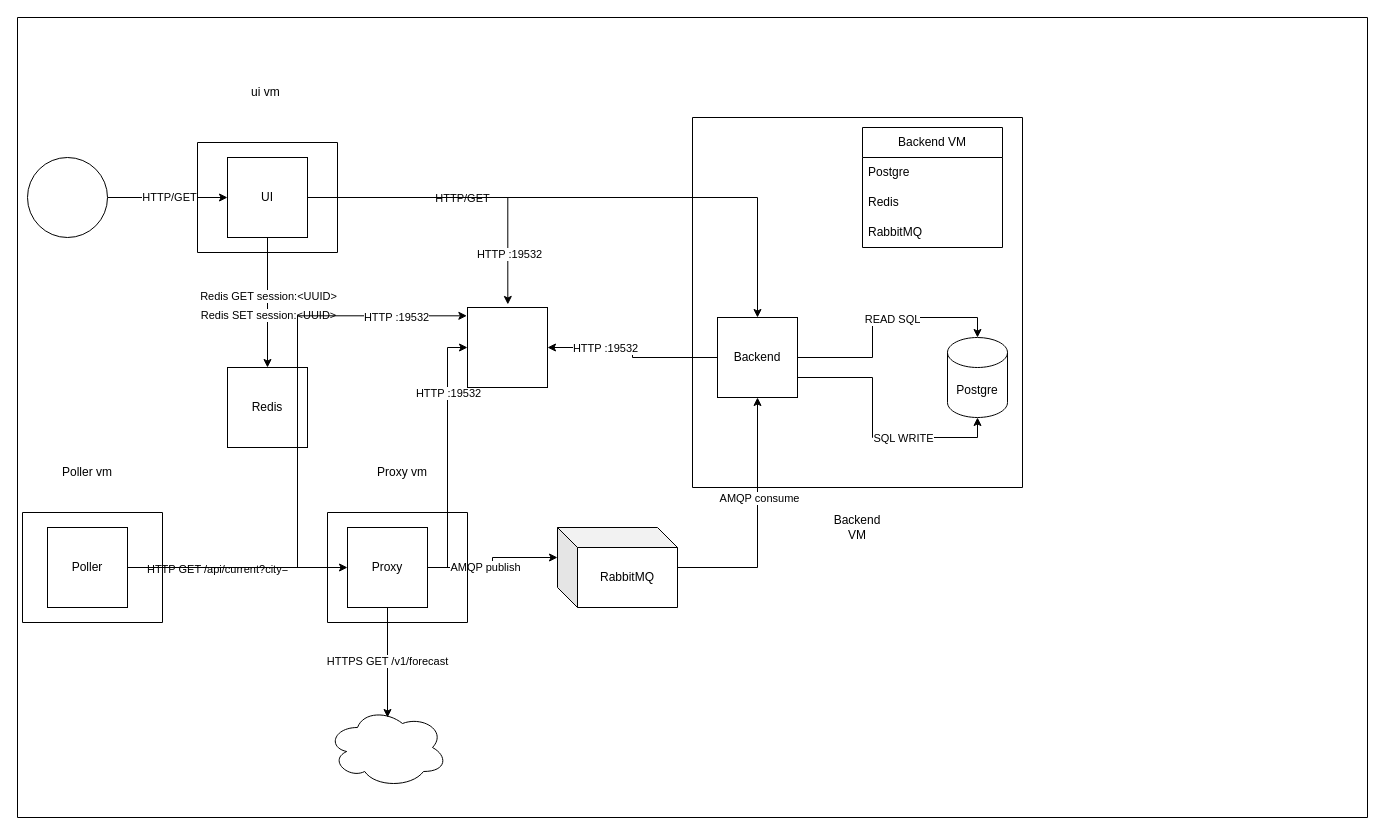
This 1385x835 diagram has some shape labels left out. The box of each missing label's shape, as (x1, y1, x2, y2) in pixels:
API: (326, 706, 448, 788)
Browser: (26, 156, 108, 238)
logs: (466, 306, 548, 388)
